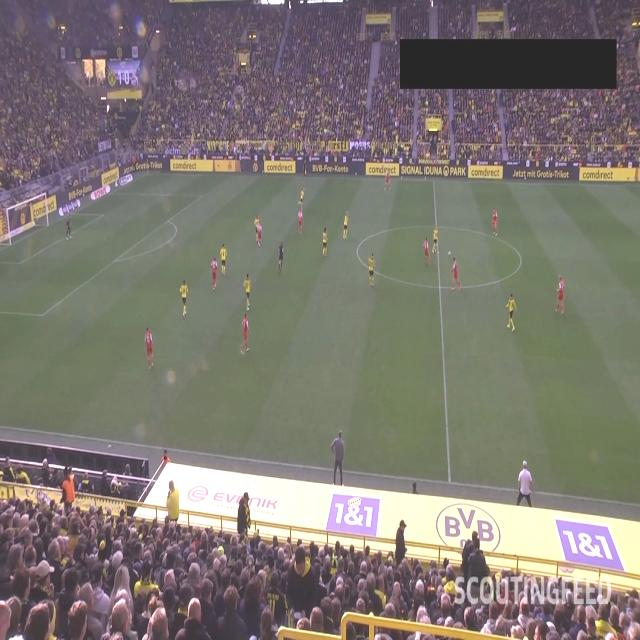ball: (446, 246, 453, 262)
f_player: (144, 328, 156, 372), (505, 292, 517, 332), (242, 312, 252, 354), (451, 258, 463, 292), (557, 275, 567, 313), (180, 280, 190, 317), (366, 251, 376, 285), (220, 246, 230, 280), (209, 256, 219, 290), (243, 275, 252, 311), (422, 238, 432, 270), (254, 216, 264, 246), (298, 184, 308, 212), (432, 225, 440, 257), (64, 212, 72, 242), (492, 209, 500, 237), (320, 228, 328, 256), (342, 212, 350, 240), (384, 165, 392, 193), (296, 208, 304, 236)
umpire: (276, 236, 286, 276)
